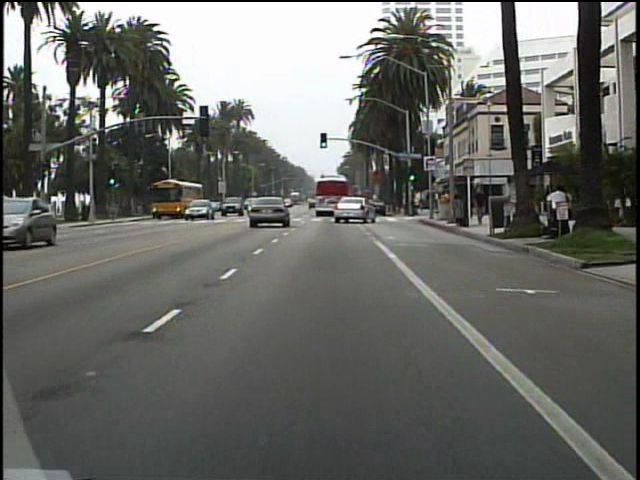person: (546, 180, 573, 242), (474, 182, 489, 229), (451, 184, 467, 222)
